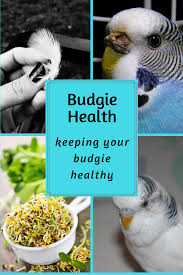budgie: (110, 181, 183, 275), (99, 8, 182, 82)
